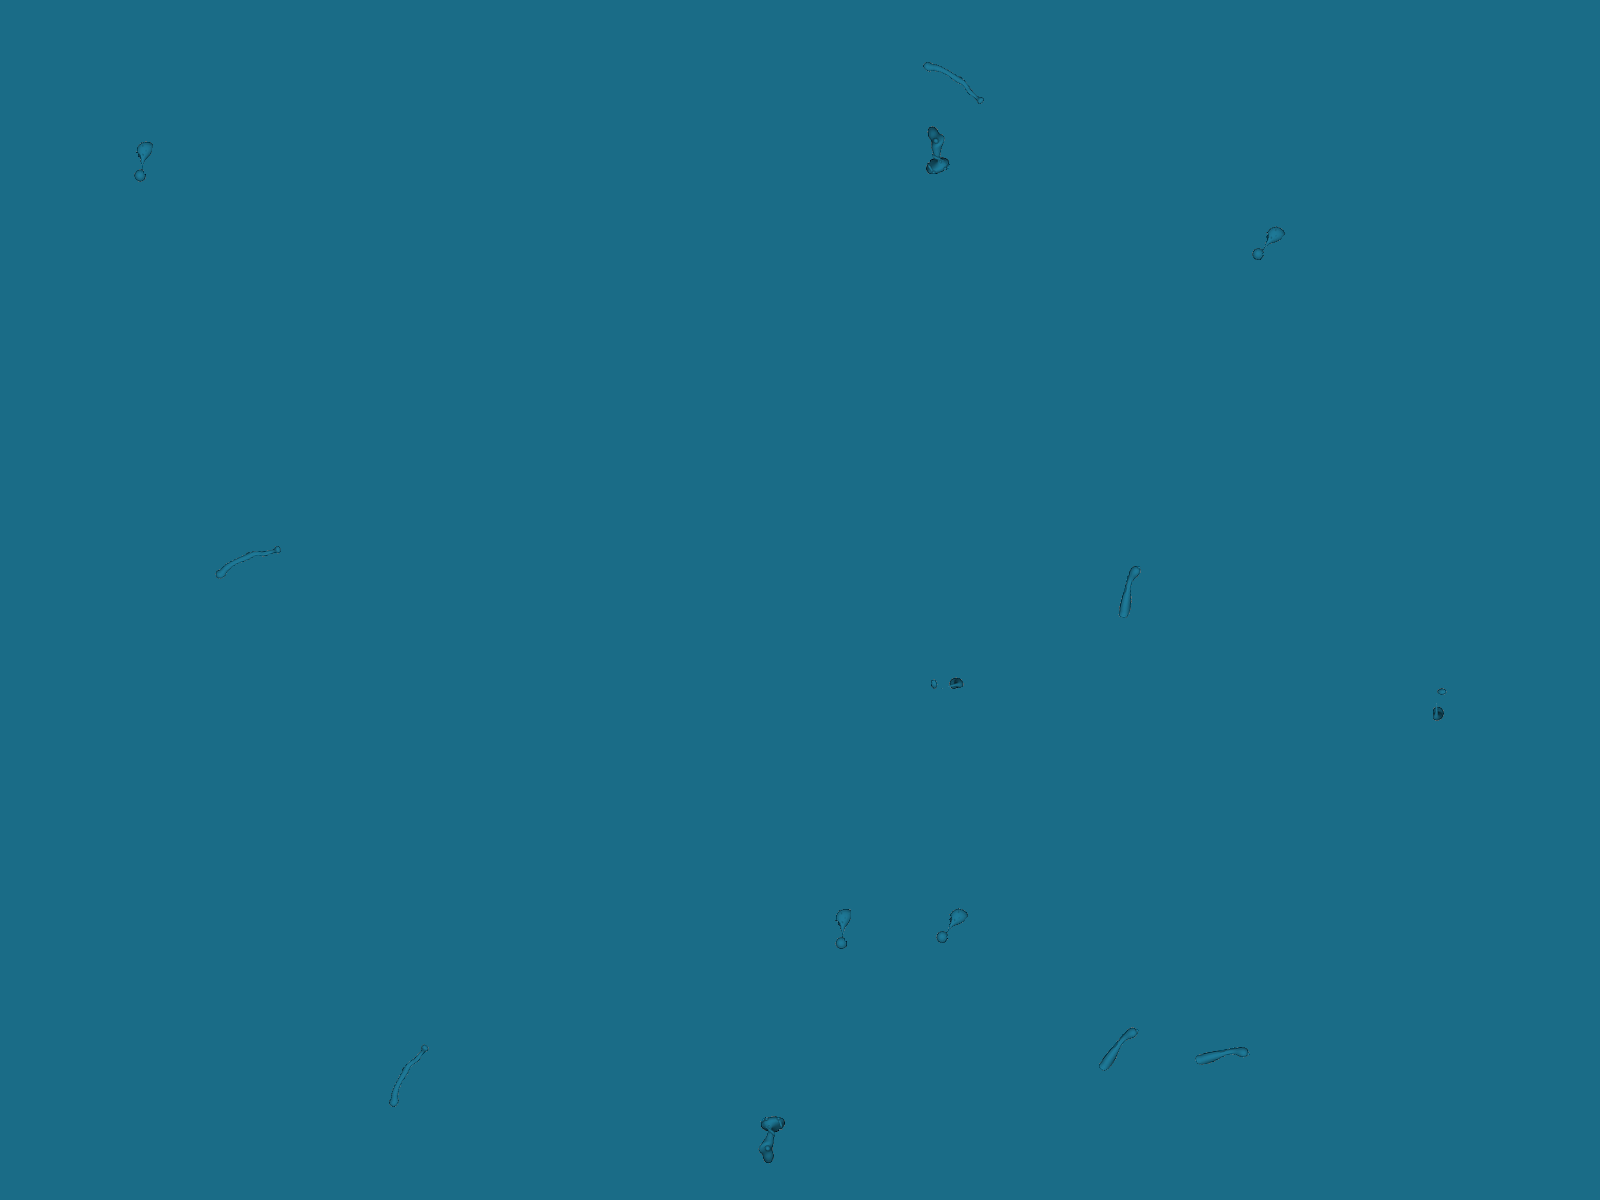Detached ligament: (918, 47, 989, 116), (374, 1040, 441, 1112), (208, 542, 286, 581), (1094, 1021, 1143, 1078), (930, 903, 971, 949), (918, 122, 954, 176), (1114, 562, 1145, 623), (1246, 221, 1288, 266), (753, 1113, 787, 1167), (1191, 1042, 1252, 1070), (926, 668, 966, 700), (130, 137, 154, 185), (1427, 684, 1453, 724), (831, 906, 852, 952)
